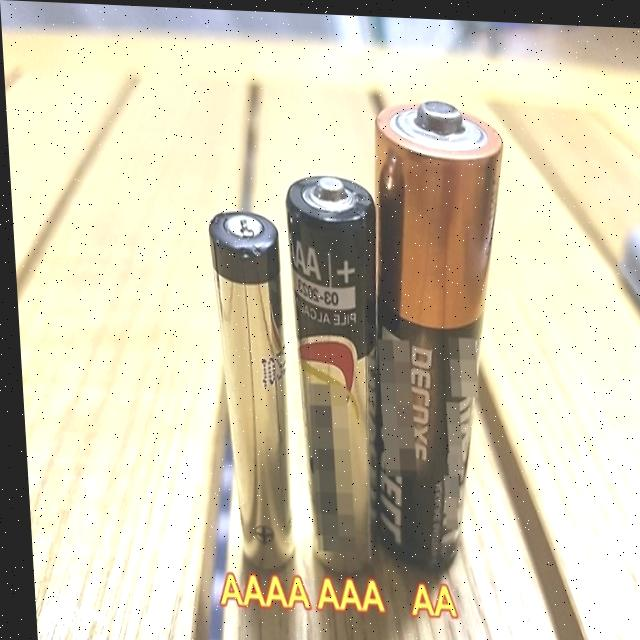battery: (350, 99, 532, 577), (283, 171, 398, 569), (211, 203, 301, 577)
